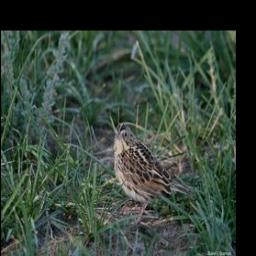Sparrow: (110, 116, 202, 229)
